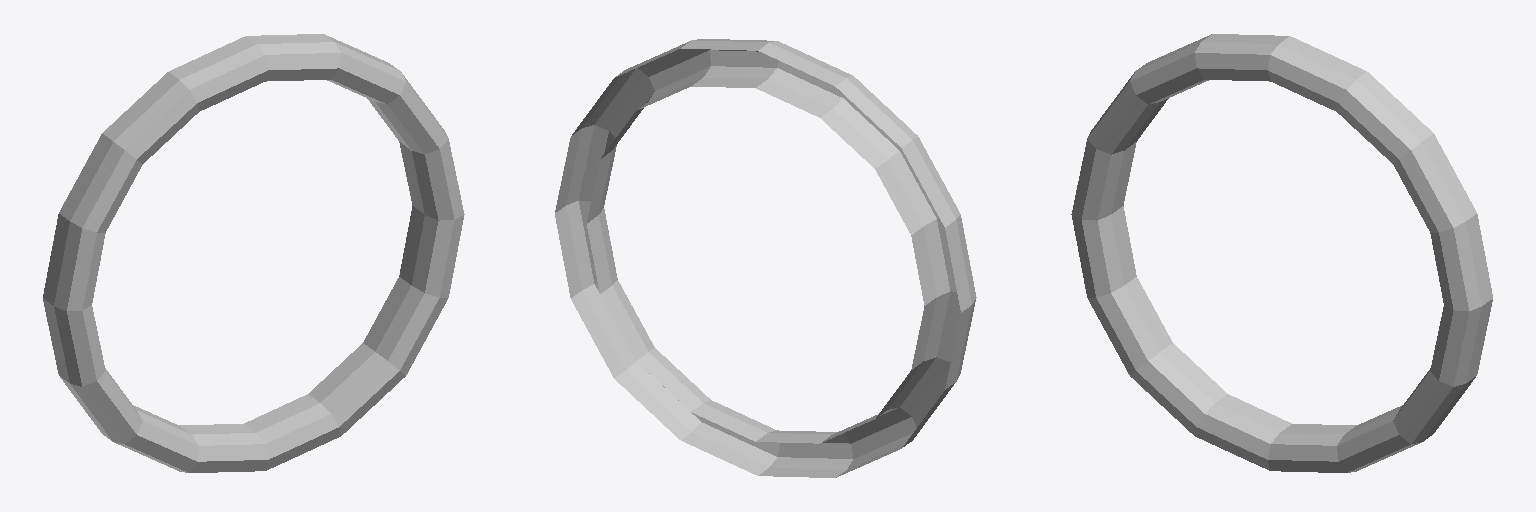
The model's file is clock-ring.obj.
3 renders of one model, left to right at view 1: azimuth 30°, elevation 25°; view 2: azimuth 150°, elevation 25°; view 3: azimuth 330°, elevation 25°, orthographic.
Visible parts, largest first — view 1: Cylinder.001; view 2: Cylinder.001; view 3: Cylinder.001.
Boxes of the visible parts, <box> form: Cylinder.001: <box>43,34,464,472</box>; Cylinder.001: <box>555,39,976,477</box>; Cylinder.001: <box>1071,34,1492,472</box>.
Size of the model in its own units: 2.94 by 2.94 by 0.3112.